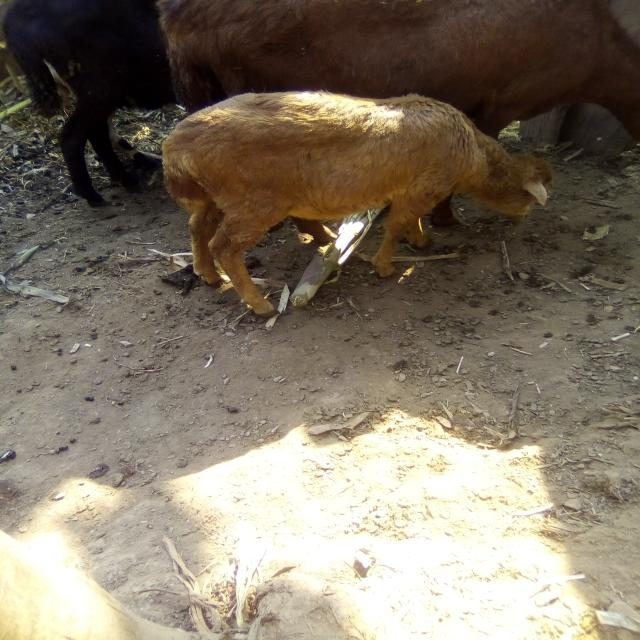sheep: (145, 84, 573, 331)
